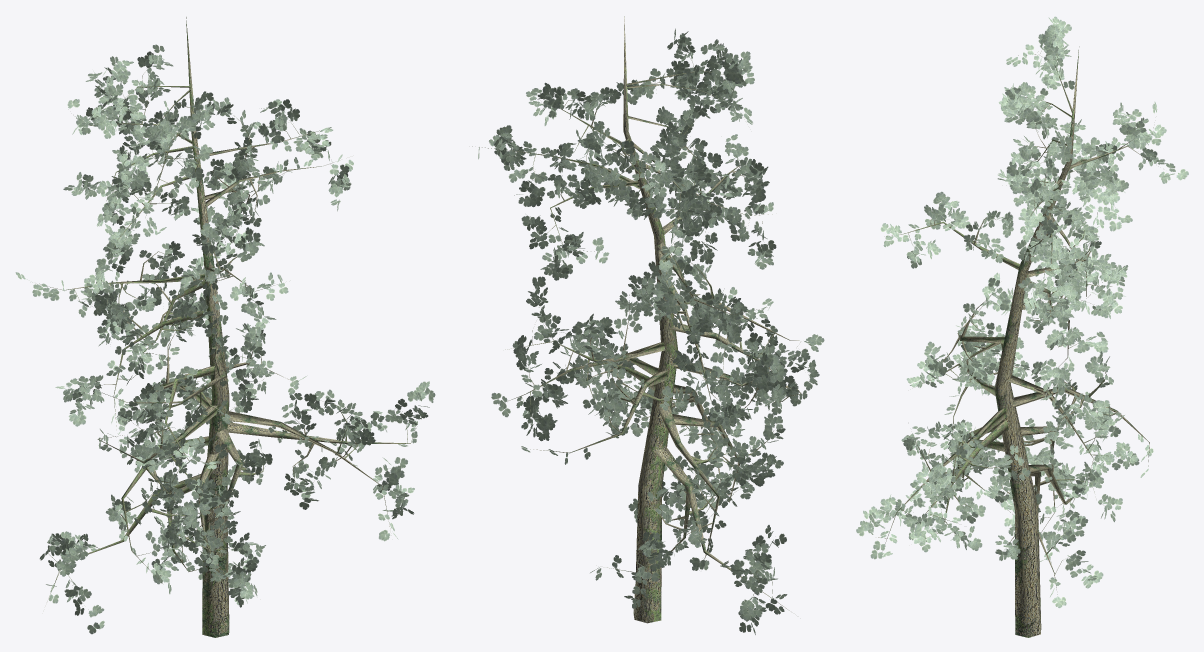
The model's file is CloverTree.obj.
3 views of the same model, side by side, from view 1: azimuth 30°, elevation 25°; view 2: azimuth 150°, elevation 25°; view 3: azimuth 270°, elevation 25° (orthographic). The views are drawn at different scales.
Parts seen in each view (by area): view 1: trunk; view 2: trunk; view 3: trunk.
Boxes of the visible parts, <box> form: trunk: <box>15,17,435,637</box>; trunk: <box>472,16,824,634</box>; trunk: <box>856,16,1188,637</box>.
Size of the model in its own units: 12.56 by 21.47 by 11.12.
